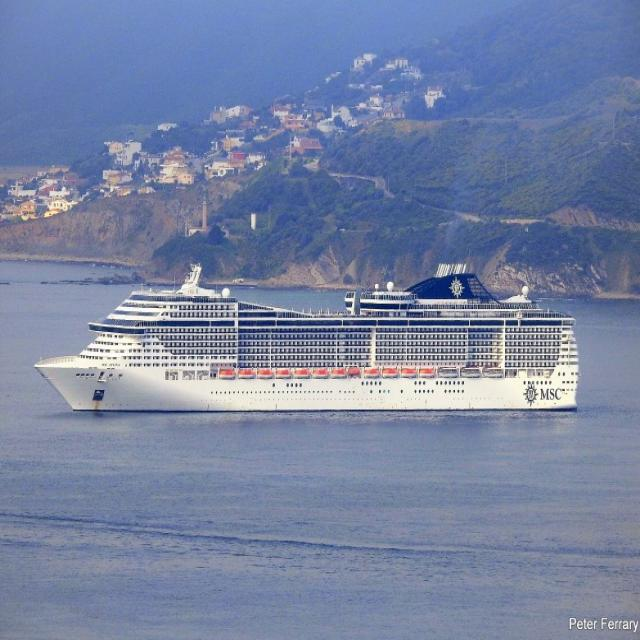cruises: (36, 254, 590, 421)
